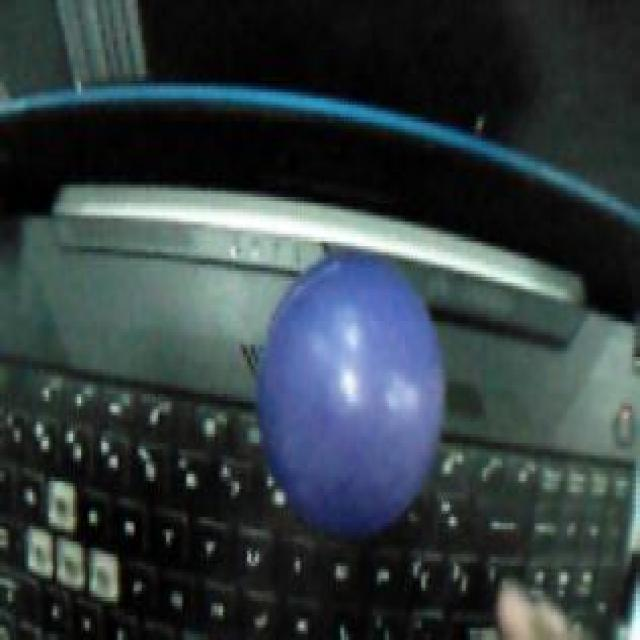BallPurple: (257, 254, 445, 538)
